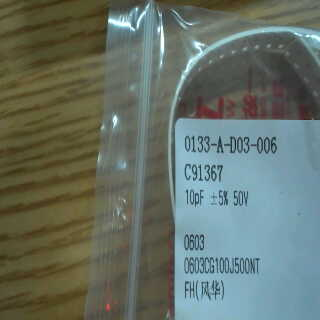10pF: (182, 184, 207, 211)
